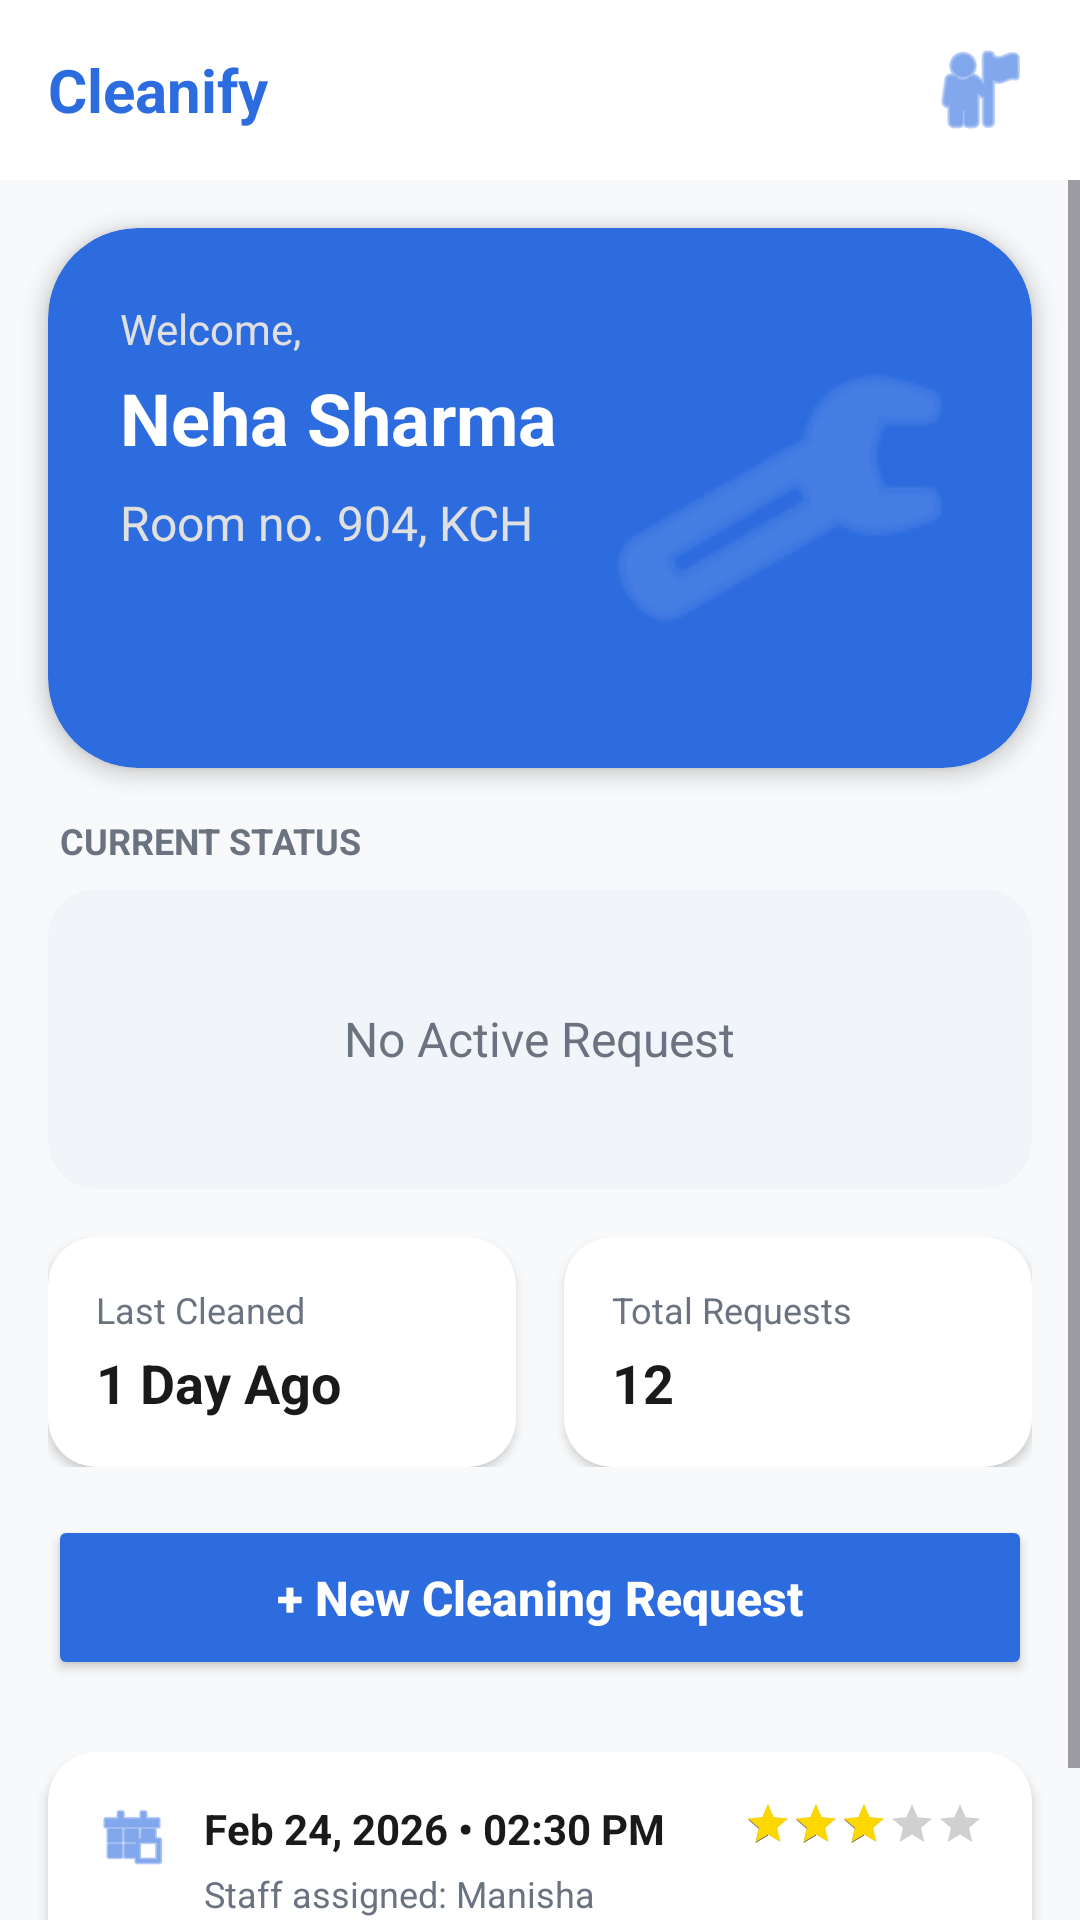

Named icons in this screenshot (1080 × 1920) and their bounding boxes, (x1, y1, x2, y2):
manage: (628, 387, 932, 609)
myplaces: (941, 50, 1020, 129)
today: (103, 1810, 162, 1865)
